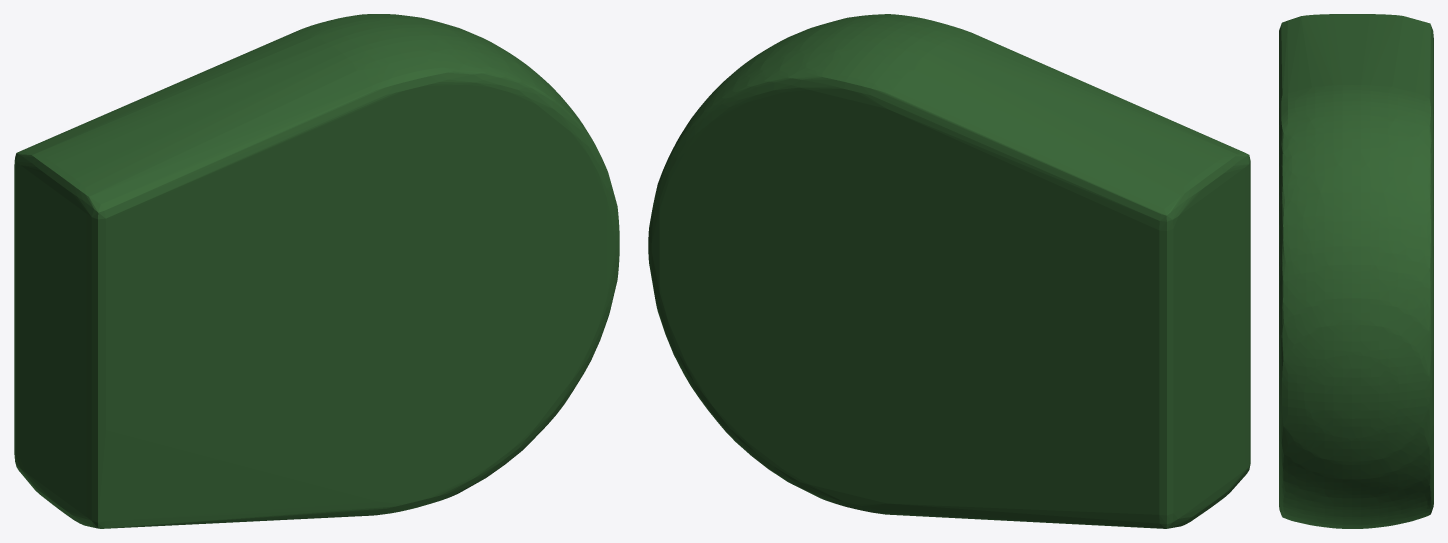
The model's file is left_elbow_link_part_19.obj.
3 renders of one model, left to right at view 1: azimuth 30°, elevation 25°; view 2: azimuth 150°, elevation 25°; view 3: azimuth 270°, elevation 25°, orthographic. The views are drawn at different scales.
Bounding box in the file's own units: 0.0905 × 0.0734 × 0.0252.
